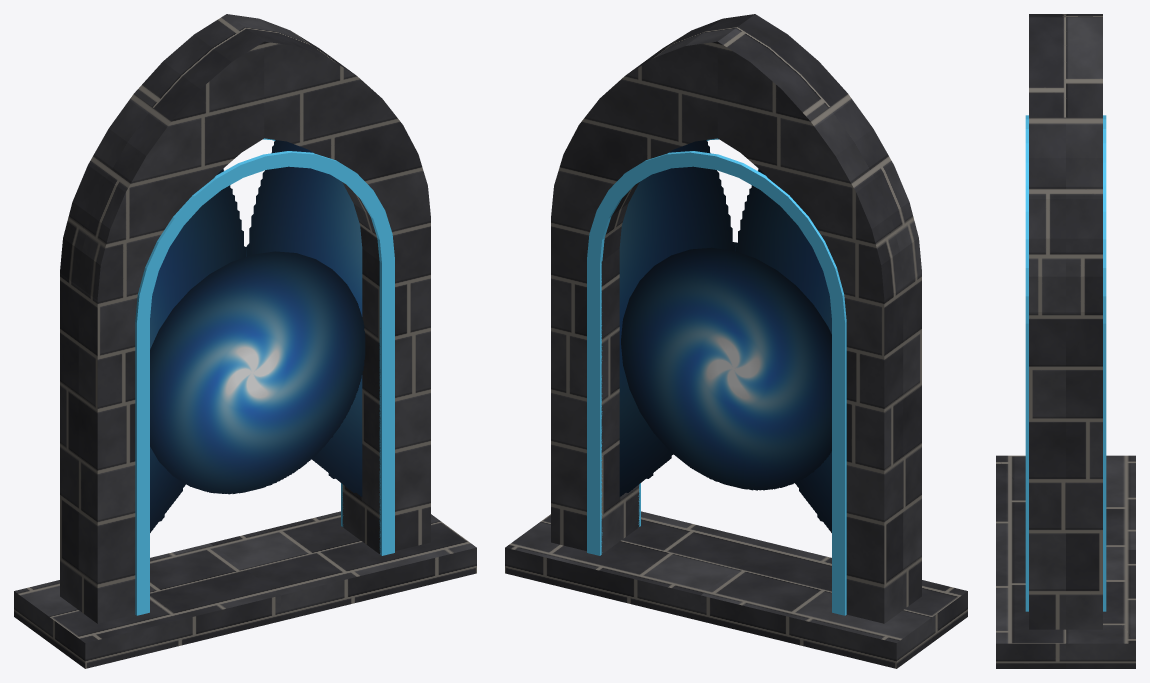
The model's file is Portal.fbx.
The picture shows the model from 3 angles, left to right: view 1: azimuth 30°, elevation 25°; view 2: azimuth 150°, elevation 25°; view 3: azimuth 270°, elevation 25°; orthographic projection.
Visible parts, largest first — view 1: Portal_Frame, Portal_CoreBack; view 2: Portal_Frame, Portal_Core; view 3: Portal_Frame.
Boxes of the visible parts, x1,y1,x2,y2 form: Portal_Frame: (14,14,476,668); Portal_CoreBack: (150,251,365,494); Portal_Frame: (505,14,967,668); Portal_Core: (621,247,831,490); Portal_Frame: (996,14,1135,668).
Bounding box in the file's own units: 2.7 × 3.74 × 0.85.
